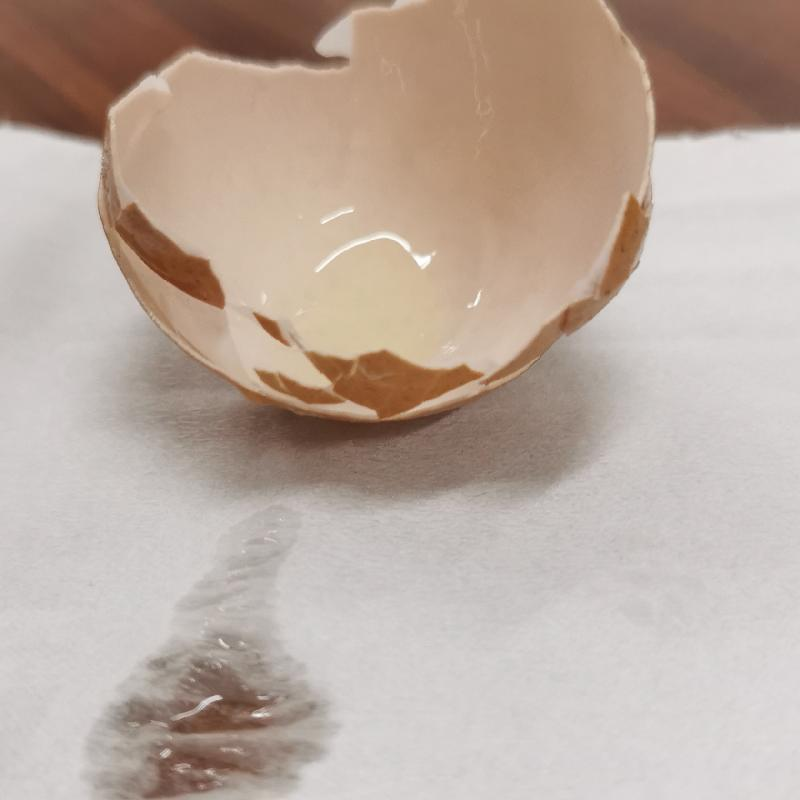eggshell: (91, 11, 659, 429)
